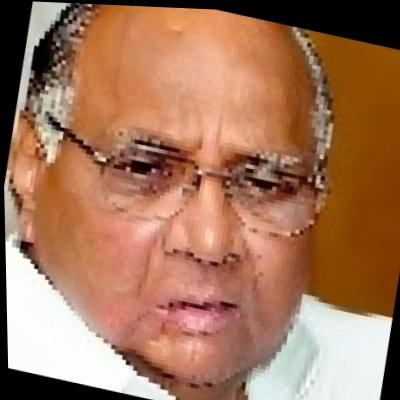sad: (15, 1, 350, 384)
